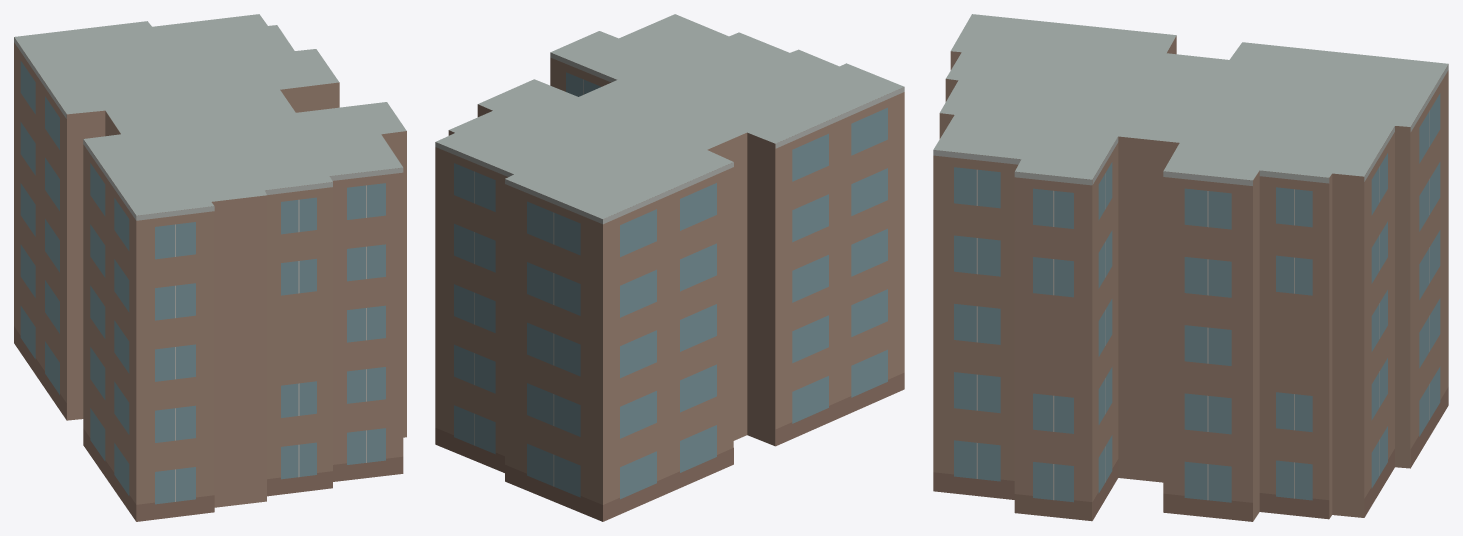
File: survey-upis-32983864.glb
3 renders of one model, left to right at view 1: azimuth 30°, elevation 25°; view 2: azimuth 150°, elevation 25°; view 3: azimuth 270°, elevation 25°, orthographic. The views are drawn at different scales.
Visible parts, largest first — view 1: survey-upis-32983864.tmp; view 2: survey-upis-32983864.tmp; view 3: survey-upis-32983864.tmp.
Boxes of the visible parts, x1,y1,x2,y2 form: survey-upis-32983864.tmp: (14, 14, 406, 521); survey-upis-32983864.tmp: (435, 14, 904, 521); survey-upis-32983864.tmp: (933, 14, 1448, 521).
Size of the model in its own units: 15.17 by 14.5 by 19.85.
